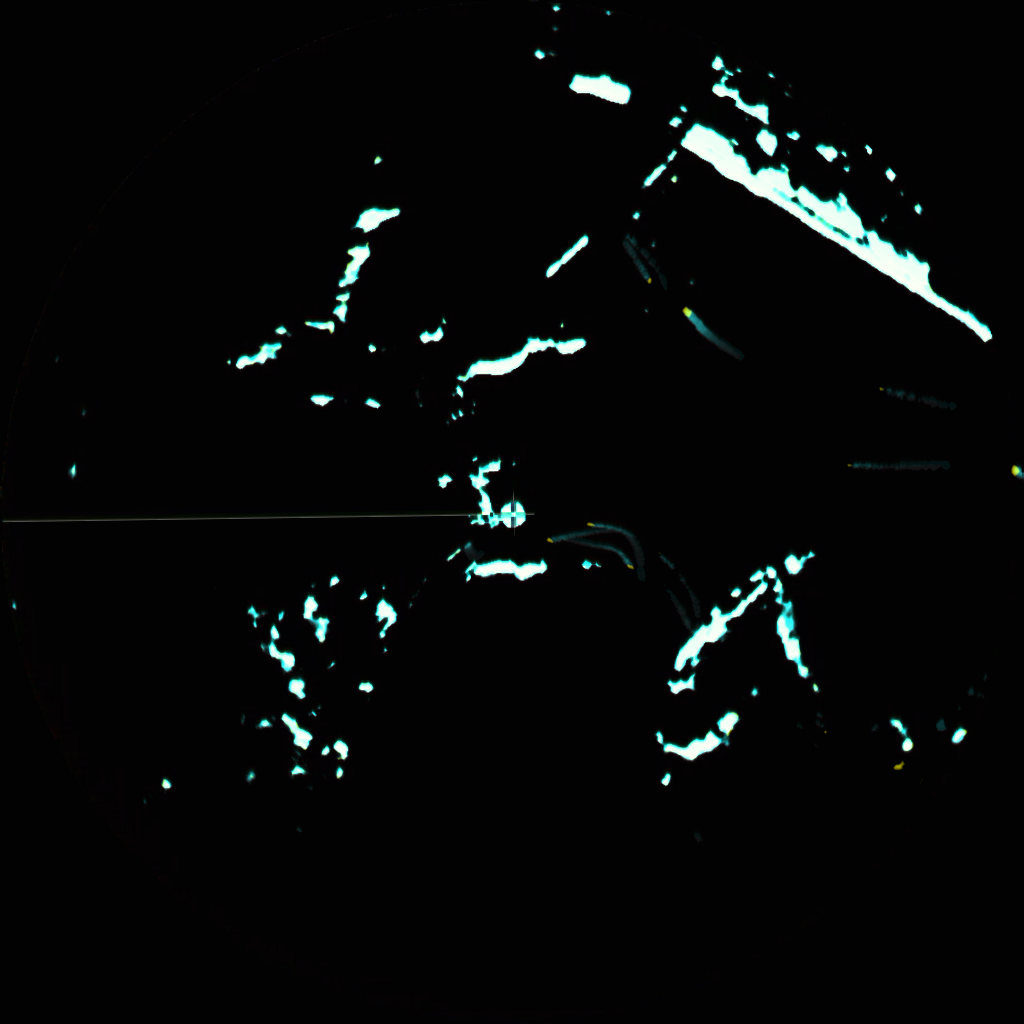B: (685, 303, 731, 349), (591, 541, 635, 574), (627, 241, 656, 284), (844, 458, 912, 475), (878, 380, 916, 410), (585, 517, 636, 538), (544, 526, 589, 546)
